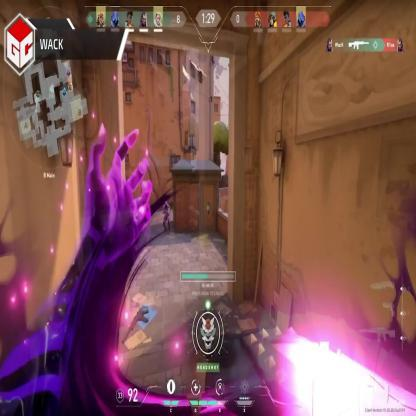enemy: (162, 199, 171, 233)
enemy_head: (164, 200, 168, 208)
